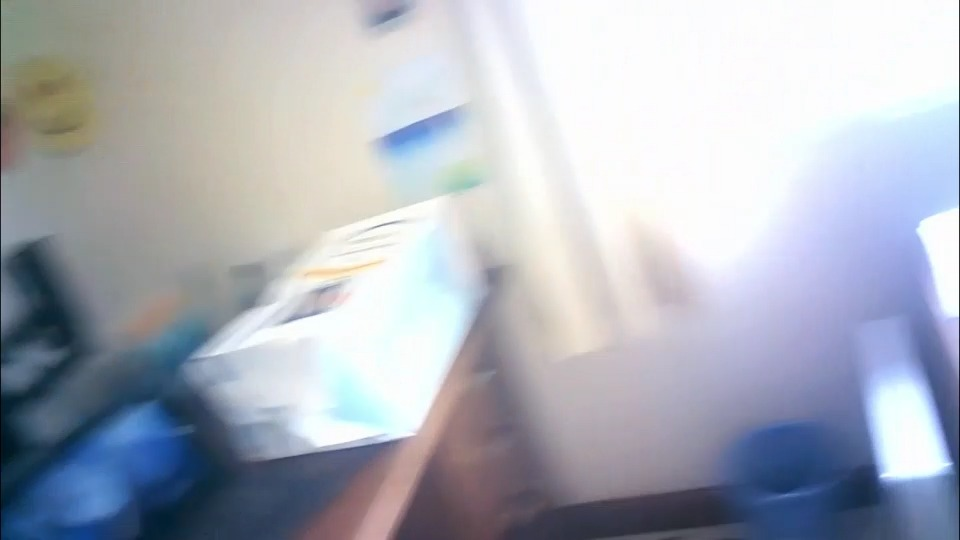wheat_flour_blue_label: (192, 209, 485, 456)
